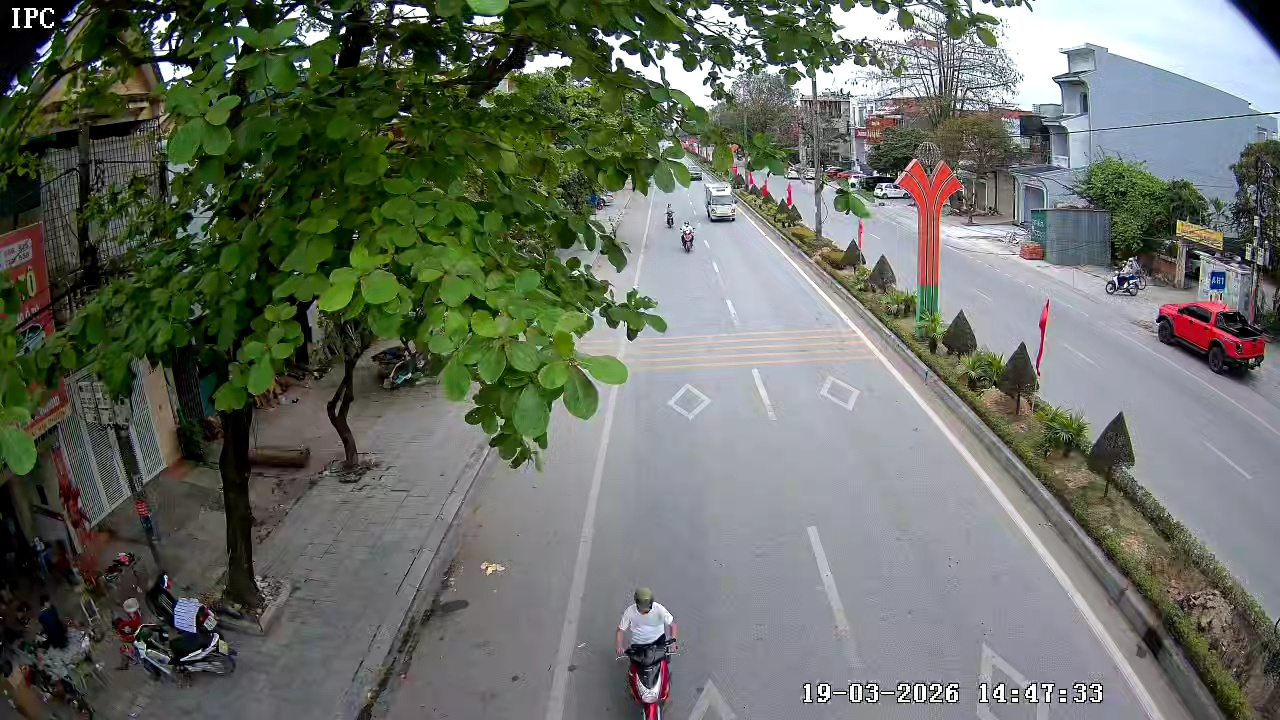car: (1151, 299, 1267, 379), (704, 185, 738, 223)
motorbike: (613, 585, 682, 719), (1104, 253, 1143, 297), (678, 219, 696, 254)
